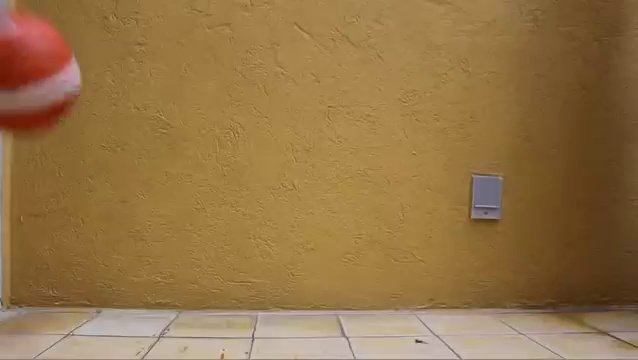ball: (1, 10, 85, 138)
